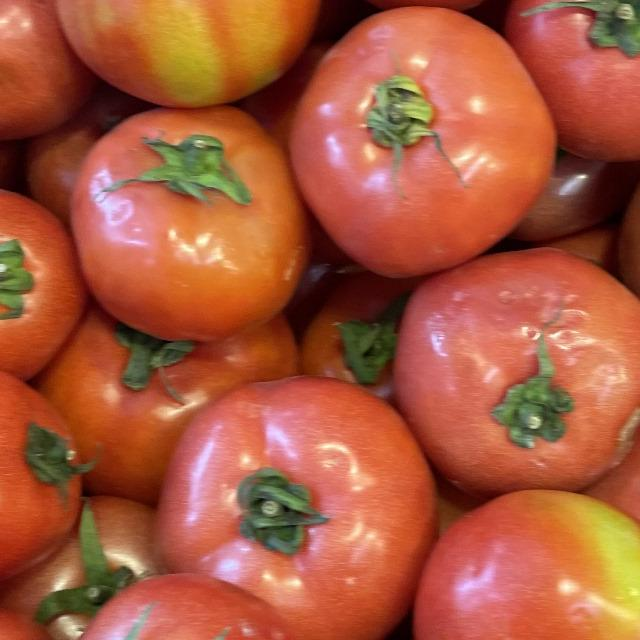tomato: (132, 335, 487, 640), (272, 0, 575, 270), (55, 95, 322, 332), (400, 240, 640, 497), (42, 0, 342, 115), (10, 552, 337, 640), (507, 0, 640, 180), (0, 0, 130, 145)
